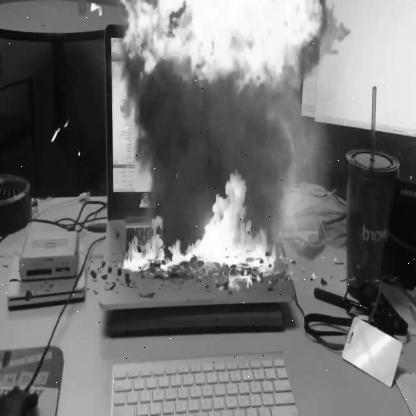fire: (116, 169, 278, 285), (126, 0, 327, 83)
smoke: (119, 53, 304, 255)
